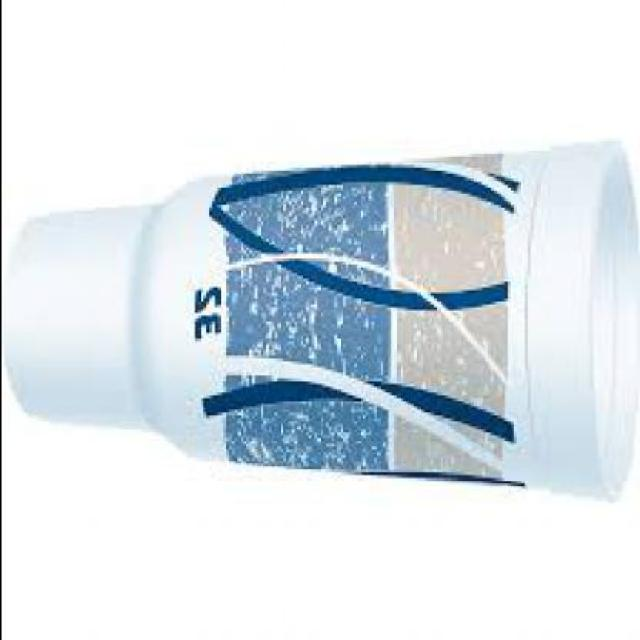PAPER: (3, 142, 639, 502)
